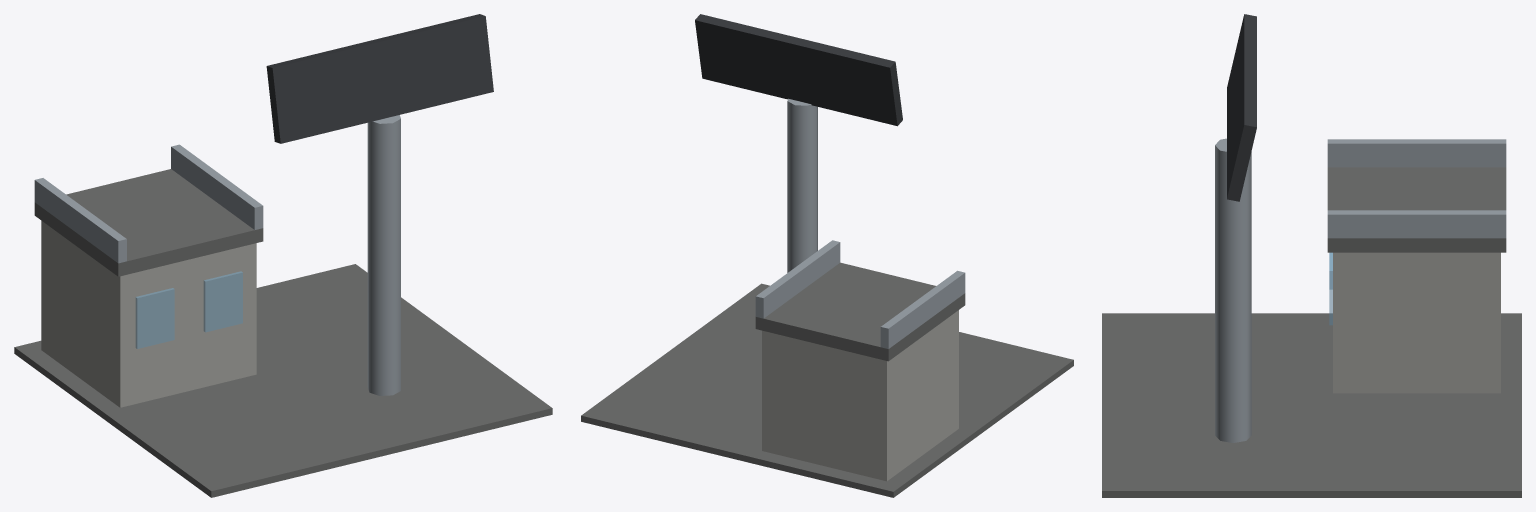
The model's file is bld_special_radar_a07_lod1.glb.
3 renders of one model, left to right at view 1: azimuth 30°, elevation 25°; view 2: azimuth 150°, elevation 25°; view 3: azimuth 270°, elevation 25°, orthographic. The views are drawn at different scales.
Visible parts, largest first — view 1: body, antenna; view 2: body, antenna; view 3: body, antenna.
Part boxes in pixels (x1,y1,x2,y2): body: (14, 115, 552, 497); antenna: (266, 14, 493, 143); body: (581, 98, 1073, 497); antenna: (695, 14, 902, 126); body: (1102, 138, 1521, 497); antenna: (1227, 14, 1256, 201).
Bounding box in the file's own units: 8 × 7.84 × 8.
